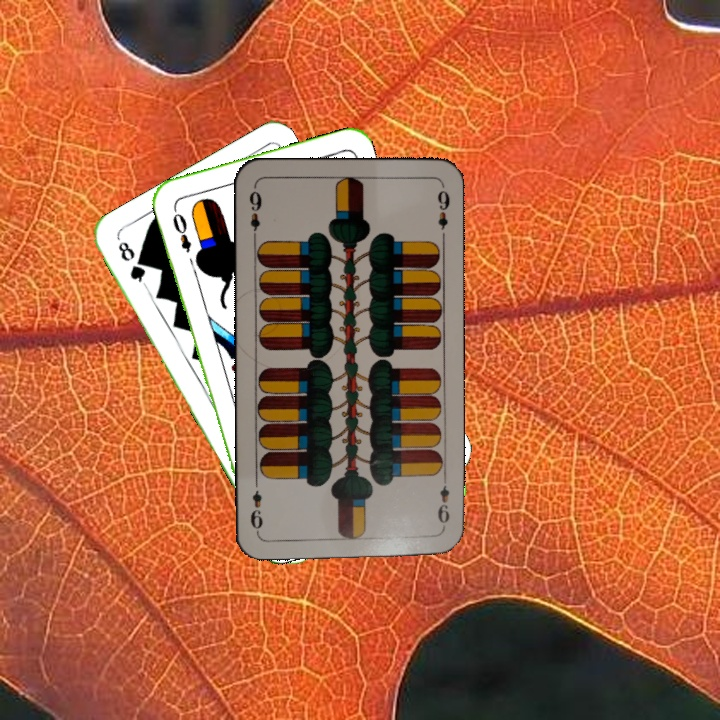E9: (245, 187, 265, 243), (434, 473, 452, 532)
EO: (168, 203, 194, 255)
G8: (114, 237, 149, 289)
